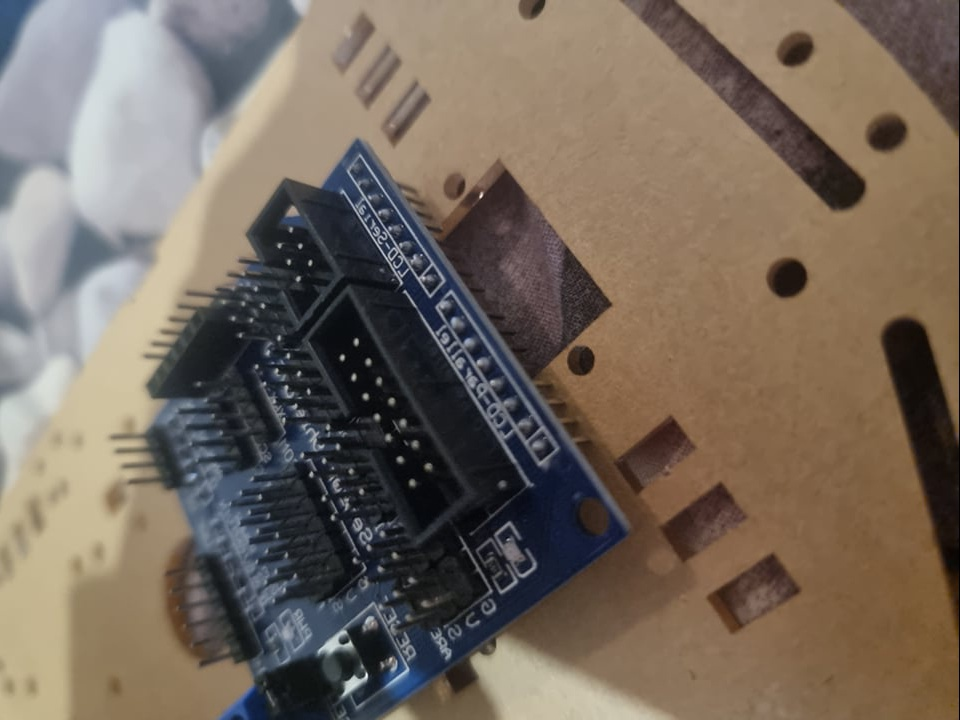5V EXPANSION: (110, 139, 634, 720)
